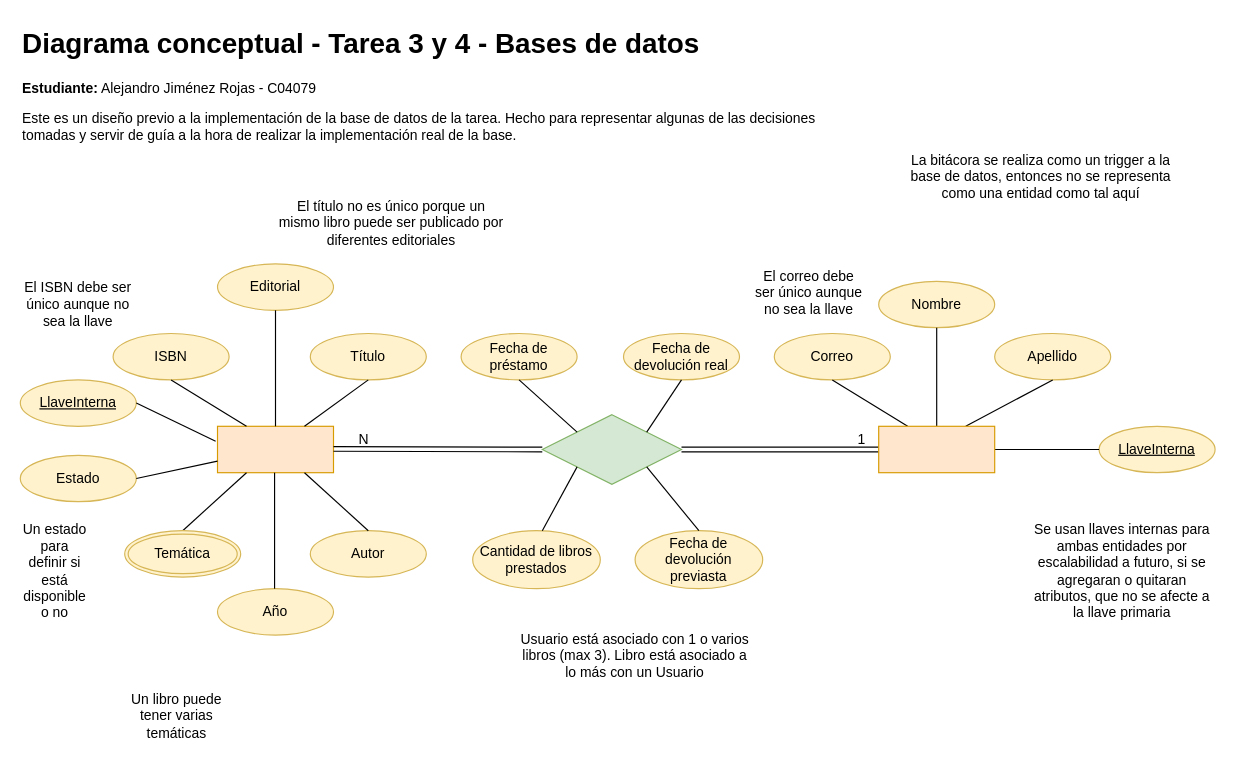
Some shapes in this 1235 by 761 pixel diagram are drawn without their labels. The centre of each missing label's shape, as x and y in pixels:
Libro: pixel 275 449
Prestamo: pixel 611 449
Usuario: pixel 936 449
